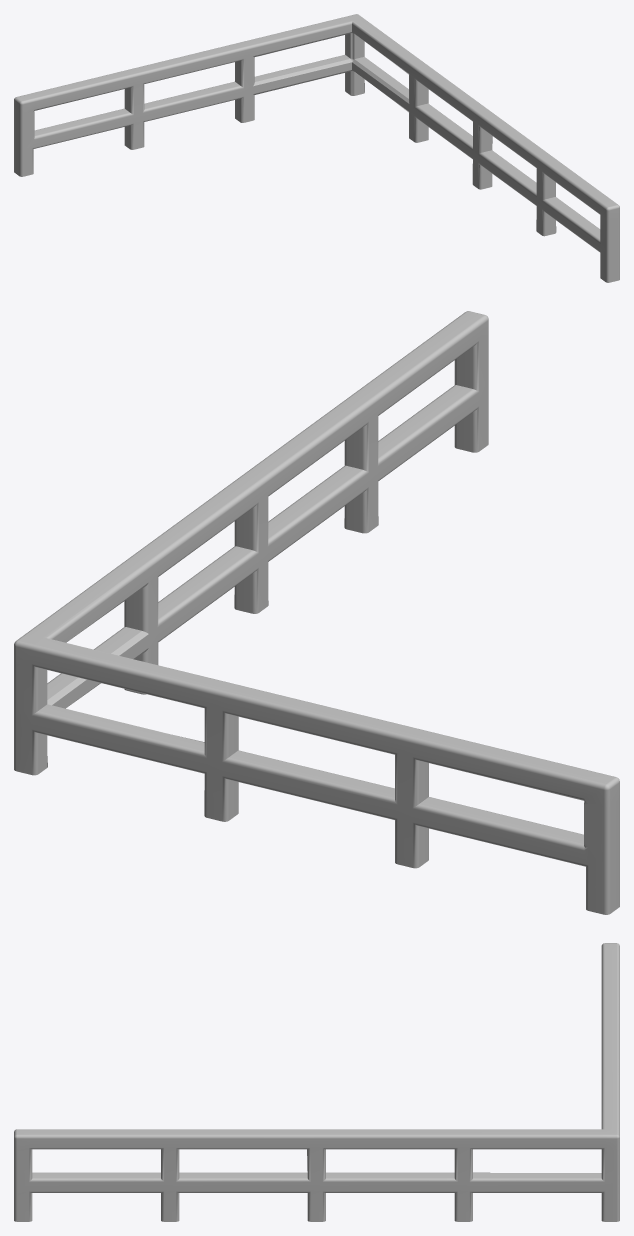
File: Rail_LeftCorner.fbx
3 renders of one model, top to bottom at view 1: azimuth 30°, elevation 25°; view 2: azimuth 150°, elevation 25°; view 3: azimuth 270°, elevation 25°, orthographic. The views are drawn at different scales.
Parts seen in each view (by area): view 1: Rail_LeftCorner; view 2: Rail_LeftCorner; view 3: Rail_LeftCorner.
Part boxes in pixels (x1,y1,x2,y2): Rail_LeftCorner: (14,14,619,282); Rail_LeftCorner: (14,311,619,914); Rail_LeftCorner: (14,943,619,1221).
Bounding box in the file's own units: 1.78 × 0.3682 × 2.35.
1 material, 1 textured.
